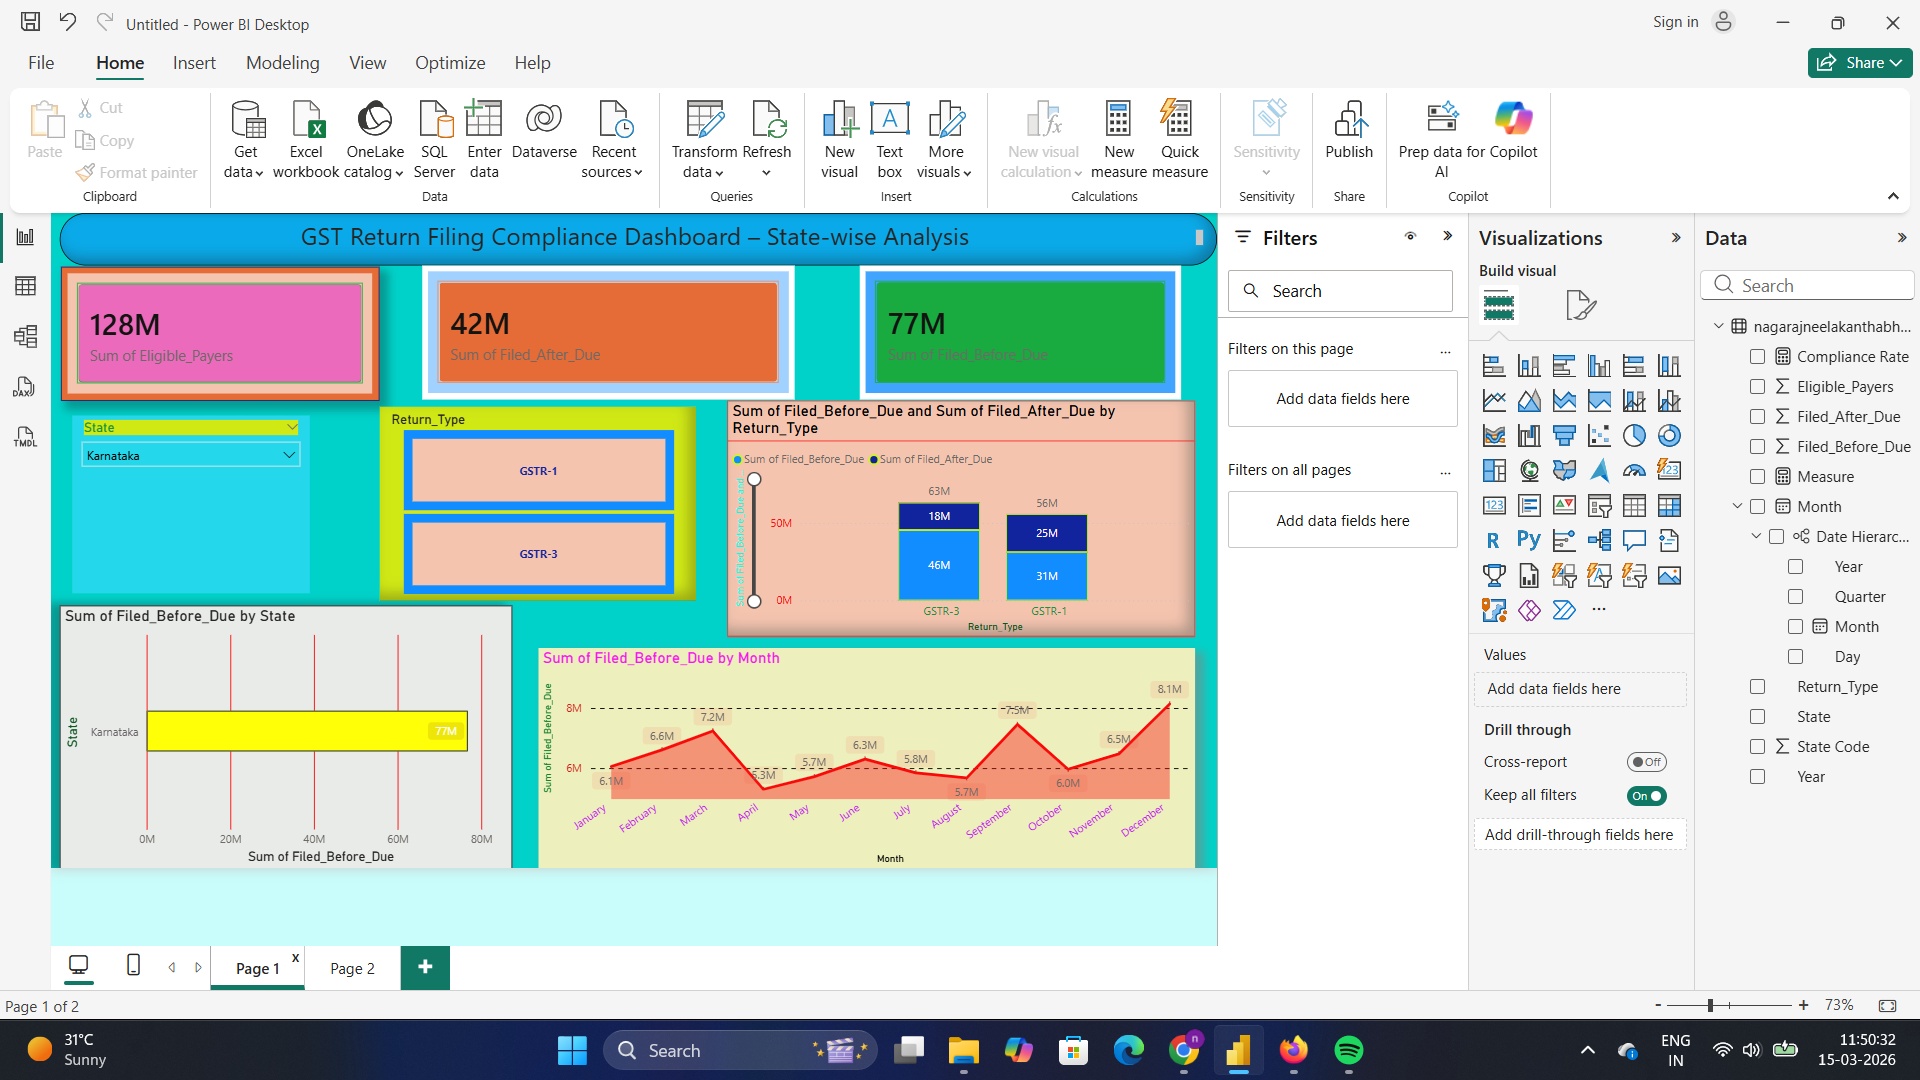

What the dashboard file says about the page in this screenshot:
{"tool":"powerbi","page":{"name":"Page 1","canvas":[1280,720],"ordinal":0},"visuals":[{"type":"textbox","box":[9.6,0,1270.7,57.6],"z":0},{"type":"cardVisual","title":"Total Eligible Payers","fields":{"Data":["Sum(nagarajneelakanthabhat_17735387173823302.Eligible_Payers)"]},"box":[11,59,349.9,146.8],"z":1000},{"type":"cardVisual","fields":{"Data":["Sum(nagarajneelakanthabhat_17735387173823302.Filed_After_Due)"]},"box":[407.5,57.6,408.9,146.8],"z":2000},{"type":"cardVisual","fields":{"Data":["Sum(nagarajneelakanthabhat_17735387173823302.Filed_Before_Due)"]},"box":[887.8,57.6,352.7,146.8],"z":3000},{"type":"clusteredBarChart","fields":{"Category":["nagarajneelakanthabhat_17735387173823302.State"],"Y":["Sum(nagarajneelakanthabhat_17735387173823302.Filed_Before_Due)"]},"box":[9.6,430.9,496.7,289.5],"z":4000},{"type":"columnChart","fields":{"Category":["nagarajneelakanthabhat_17735387173823302.Return_Type"],"Y":["Sum(nagarajneelakanthabhat_17735387173823302.Filed_Before_Due)","Sum(nagarajneelakanthabhat_17735387173823302.Filed_After_Due)"]},"box":[742.4,205.8,513.2,259.3],"z":5000},{"type":"lineChart","fields":{"Category":["nagarajneelakanthabhat_17735387173823302.Month.Variation.Date Hierarchy.Month"],"Y":["Sum(nagarajneelakanthabhat_17735387173823302.Filed_Before_Due)"]},"box":[535.2,477.5,720.4,242.9],"z":6000},{"type":"slicer","fields":{"Values":["nagarajneelakanthabhat_17735387173823302.State"]},"box":[23.3,222.3,260.7,194.9],"z":7000},{"type":"slicer","fields":{"Values":["nagarajneelakanthabhat_17735387173823302.Return_Type"]},"box":[360.9,212.7,347.2,212.7],"z":8000}]}

Visuals, with their boxes on the page's 1280x720 design canvas (x1, y1, x2, y2). These are canvas units, not pixel positions in the 1920x1080 screenshot, which may show the page scaled, cropped or inside an application window:
textbox: region(10, 0, 1280, 58)
"Total Eligible Payers" cardVisual: region(11, 59, 361, 206)
cardVisual - Sum(nagarajneelakanthabhat_17735387173823302.Filed_After_Due): region(408, 58, 816, 204)
cardVisual - Sum(nagarajneelakanthabhat_17735387173823302.Filed_Before_Due): region(888, 58, 1240, 204)
clusteredBarChart - nagarajneelakanthabhat_17735387173823302.State x Sum(nagarajneelakanthabhat_17735387173823302.Filed_Before_Due): region(10, 431, 506, 720)
columnChart - nagarajneelakanthabhat_17735387173823302.Return_Type x Sum(nagarajneelakanthabhat_17735387173823302.Filed_Before_Due): region(742, 206, 1256, 465)
lineChart - nagarajneelakanthabhat_17735387173823302.Month.Variation.Date Hierarchy.Month x Sum(nagarajneelakanthabhat_17735387173823302.Filed_Before_Due): region(535, 478, 1256, 720)
slicer - nagarajneelakanthabhat_17735387173823302.State: region(23, 222, 284, 417)
slicer - nagarajneelakanthabhat_17735387173823302.Return_Type: region(361, 213, 708, 425)
